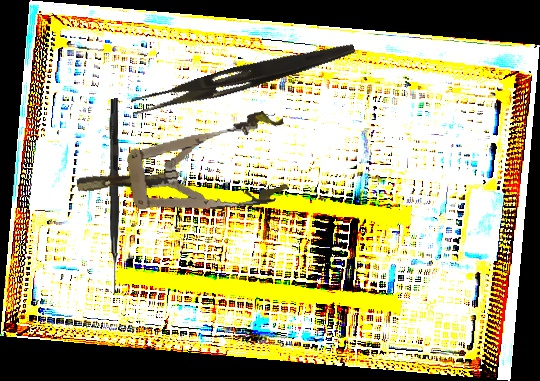Dressing Forceps: (130, 32, 357, 123)
Hook Surgical: (107, 98, 122, 294)
Speculum: (70, 108, 295, 230)
